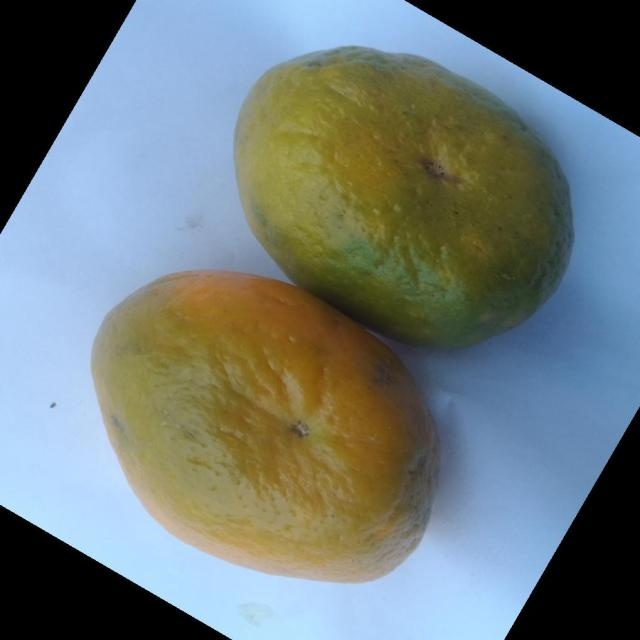agrume: (89, 267, 441, 585), (231, 43, 574, 349)
